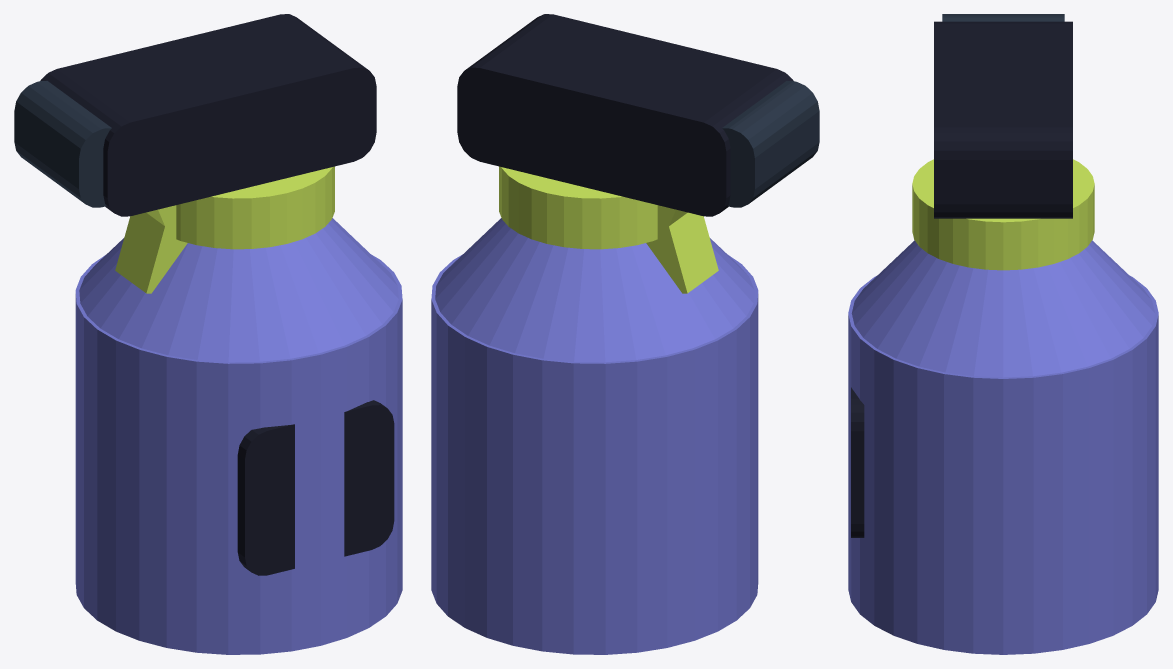
File: lensbottle.glb
3 renders of one model, left to right at view 1: azimuth 30°, elevation 25°; view 2: azimuth 150°, elevation 25°; view 3: azimuth 270°, elevation 25°, orthographic. The views are drawn at different scales.
Visible parts, largest first — view 1: bottle, sprayer, shoulder, label, collar, nozzle, trigger; view 2: bottle, sprayer, shoulder, collar, nozzle, trigger; view 3: bottle, shoulder, sprayer, collar, label, nozzle.
Boxes of the visible parts, bbox=[...] form: bottle: bbox=[75, 255, 402, 654]; sprayer: bbox=[40, 14, 376, 216]; shoulder: bbox=[79, 218, 398, 362]; label: bbox=[237, 400, 394, 575]; collar: bbox=[176, 166, 334, 249]; nozzle: bbox=[14, 81, 111, 207]; trigger: bbox=[115, 205, 187, 293]; bottle: bbox=[431, 255, 758, 654]; sprayer: bbox=[457, 14, 793, 216]; shoulder: bbox=[435, 218, 754, 362]; collar: bbox=[499, 166, 657, 249]; nozzle: bbox=[722, 81, 819, 207]; trigger: bbox=[646, 205, 718, 293]; bottle: bbox=[848, 276, 1158, 654]; shoulder: bbox=[851, 240, 1155, 377]; sprayer: bbox=[934, 21, 1072, 218]; collar: bbox=[912, 159, 1094, 270]; label: bbox=[851, 387, 864, 537]; nozzle: bbox=[942, 14, 1064, 21].
Bounding box in the file's own units: 0.895 × 1.34 × 0.76.
